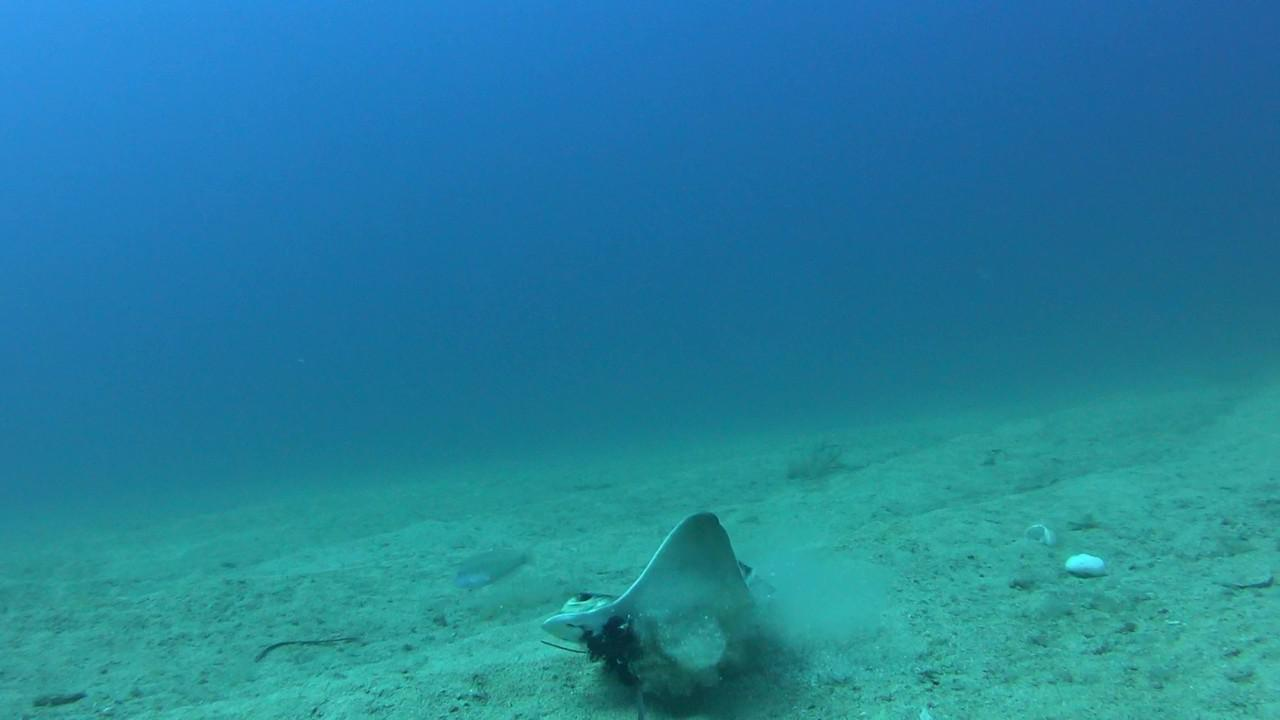myliobatis: (525, 503, 796, 661)
raor: (451, 541, 537, 591)
